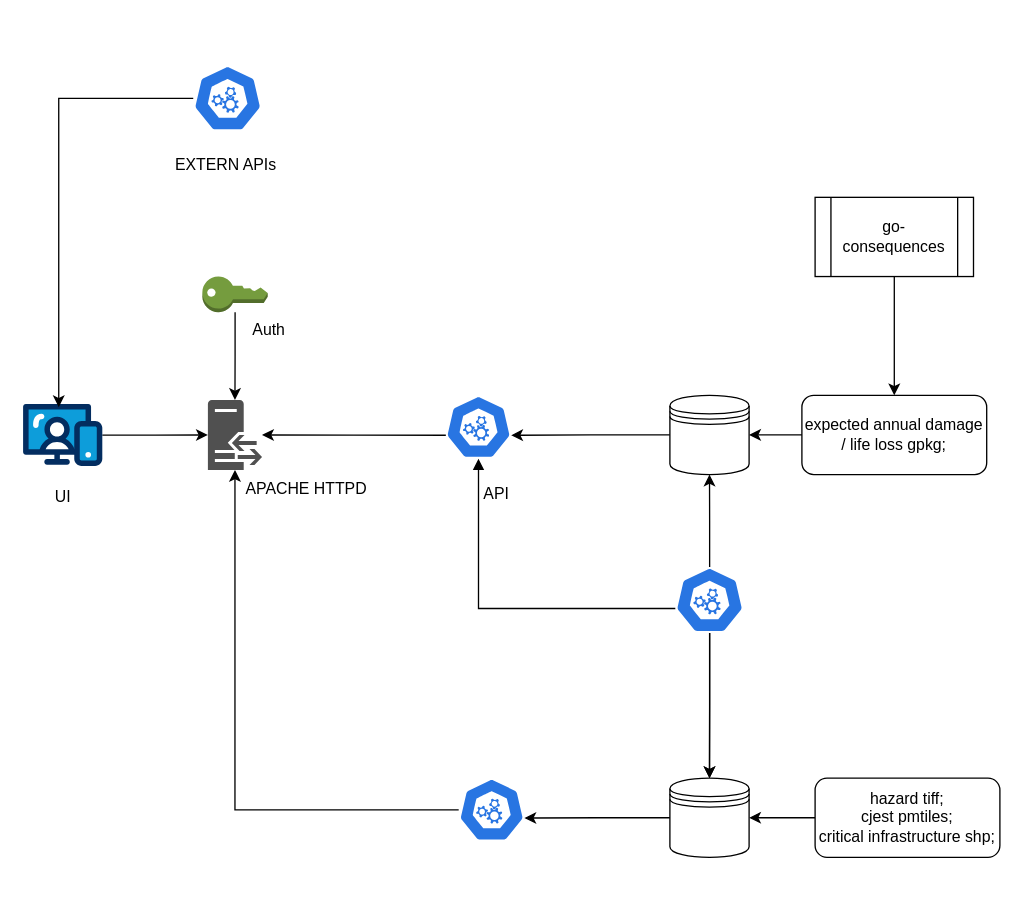
Some shapes in this 1023 by 908 pixel diagram are drawn without their labels. Each missing label, with the box of its shape:
cloud-compute EXTERN: (674, 566, 744, 633)
mapserver: (457, 777, 525, 842)
model-library (S3): (669, 777, 749, 857)
PostGIS: (669, 394, 749, 475)
